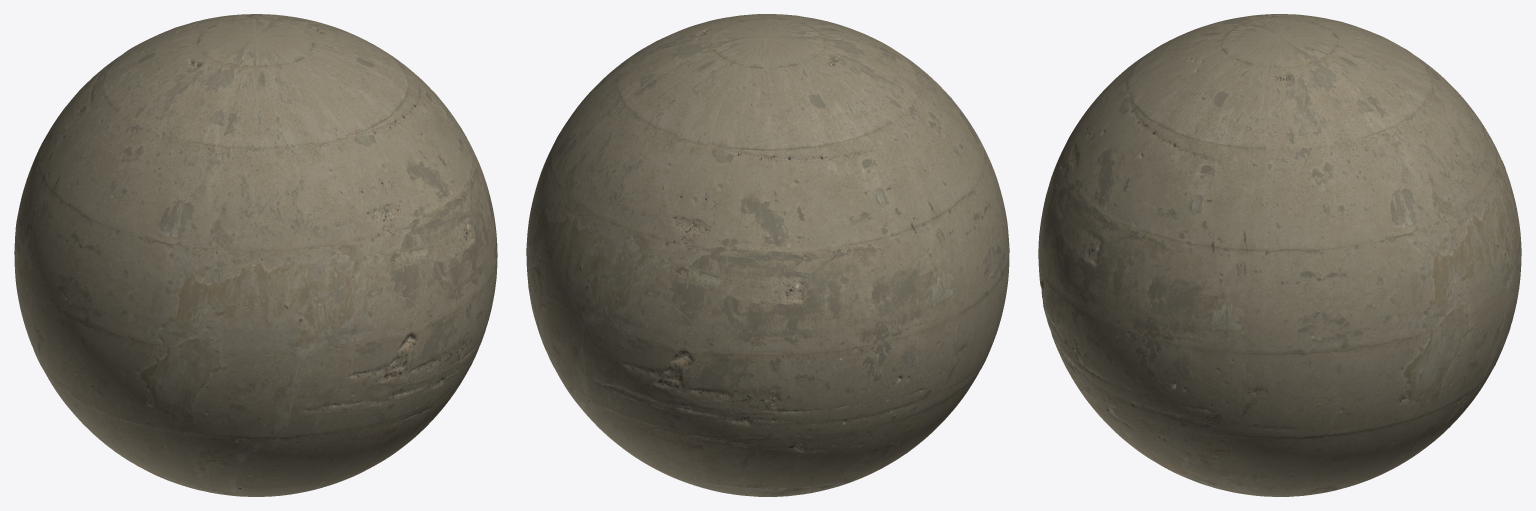
File: concrete_wall_007_2k.gltf
3 views of the same model, side by side, from view 1: azimuth 30°, elevation 25°; view 2: azimuth 150°, elevation 25°; view 3: azimuth 270°, elevation 25° (orthographic).
Parts seen in each view (by area): view 1: sphere_gltf; view 2: sphere_gltf; view 3: sphere_gltf.
Part boxes in pixels (x1=…): sphere_gltf: x1=14, y1=14, x2=497, y2=496; sphere_gltf: x1=526, y1=14, x2=1009, y2=496; sphere_gltf: x1=1038, y1=14, x2=1521, y2=496.
Size of the model in its own units: 2.17 by 2.17 by 2.17.
1 material, 1 textured.
